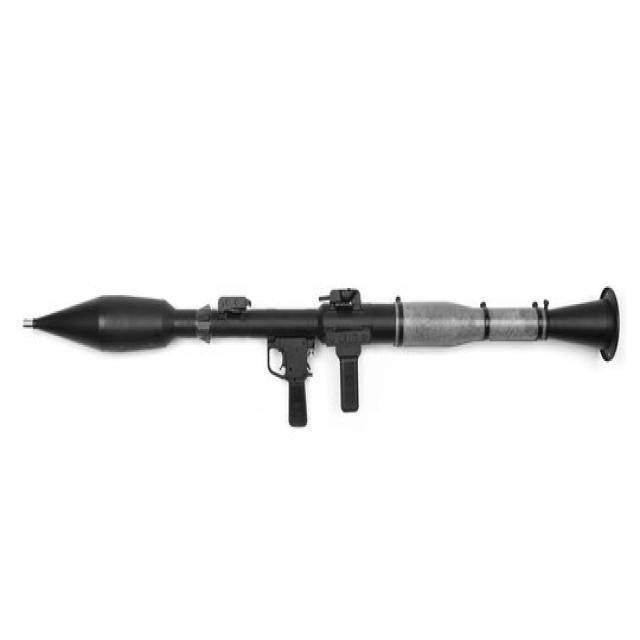Lancher: (14, 250, 624, 440)
